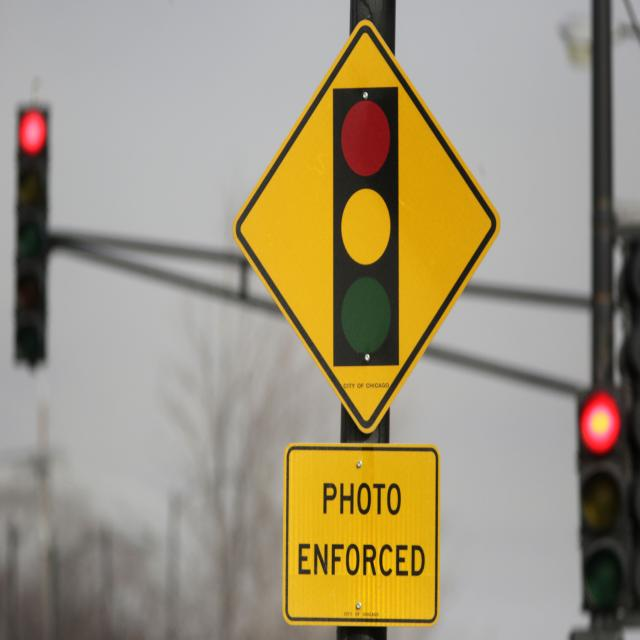red: (576, 393, 623, 464), (22, 110, 50, 159)
